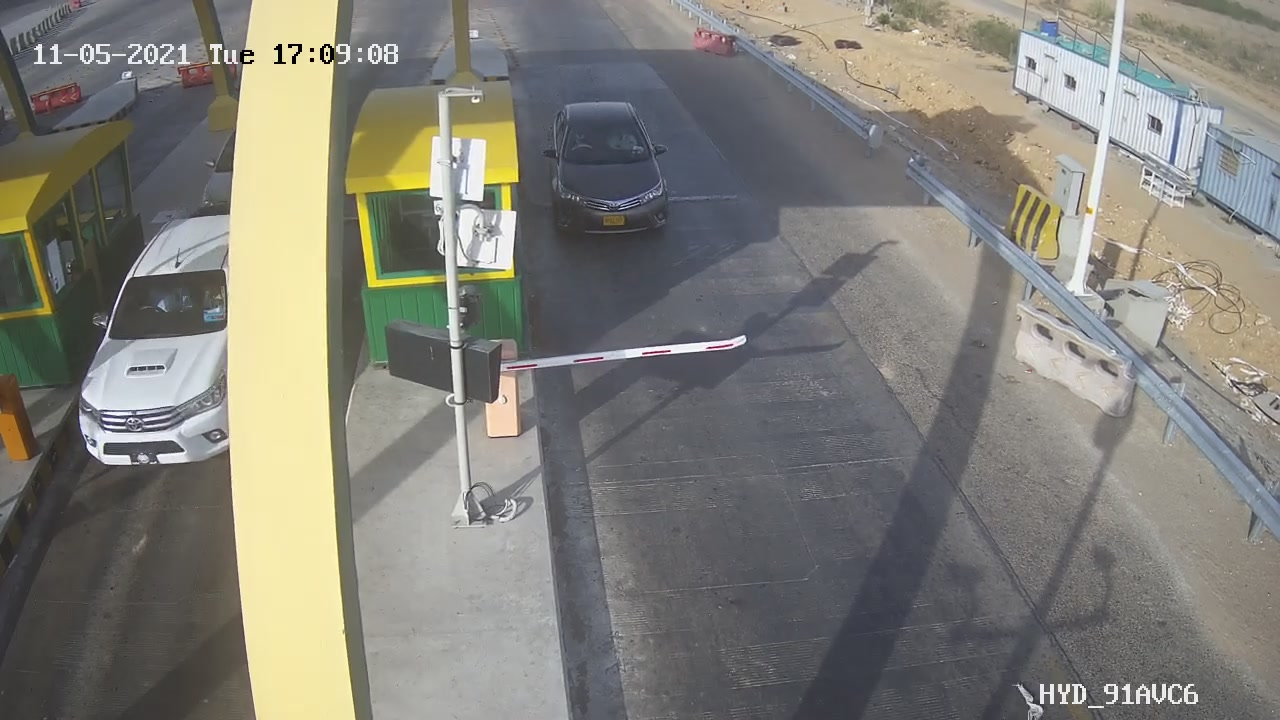F1: (531, 83, 690, 260)
